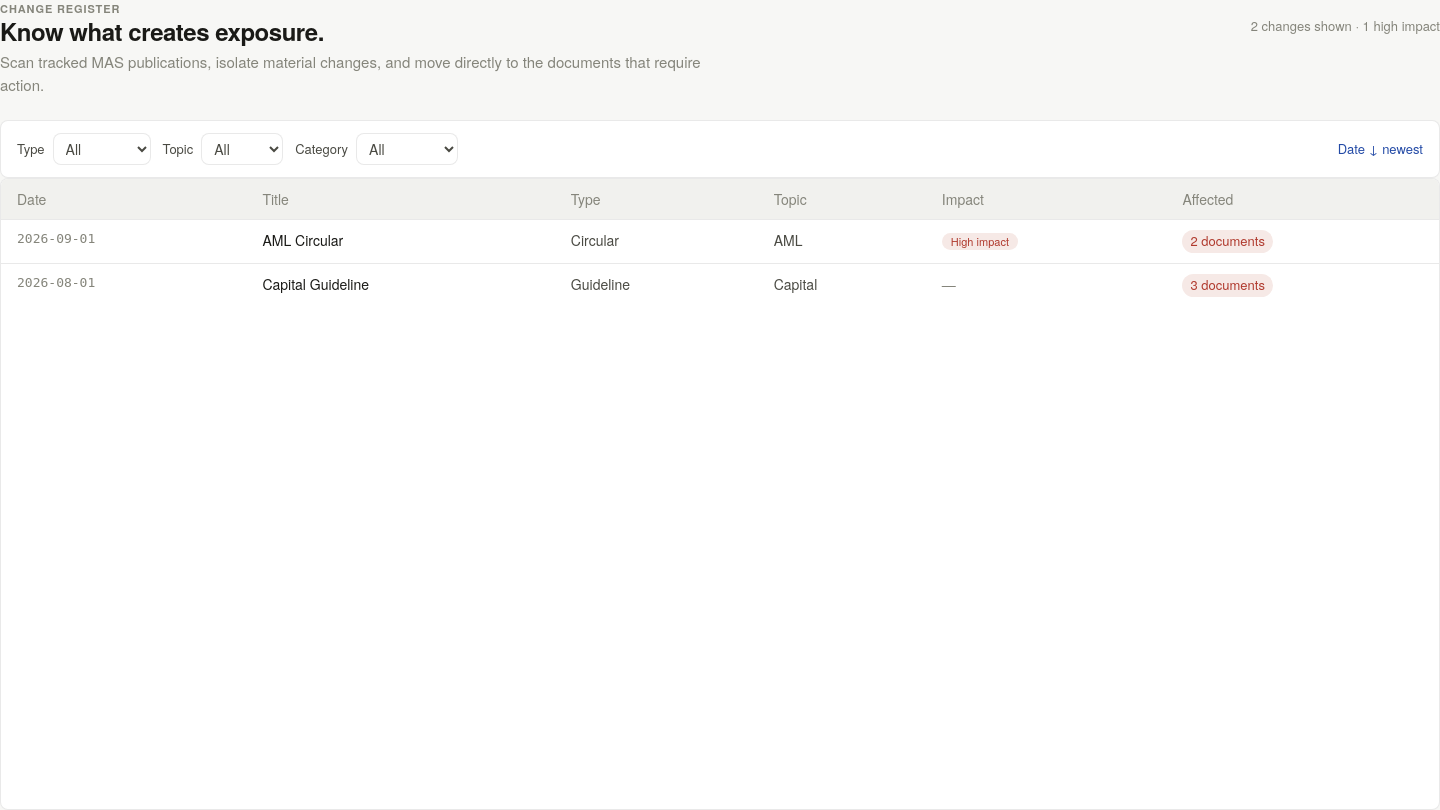
Scenario: opens the affected-documents page from an explicit impact action
Click the button with aria-label "View impact for AML Circular" at [1228, 242], box [1182,230,1273,253]
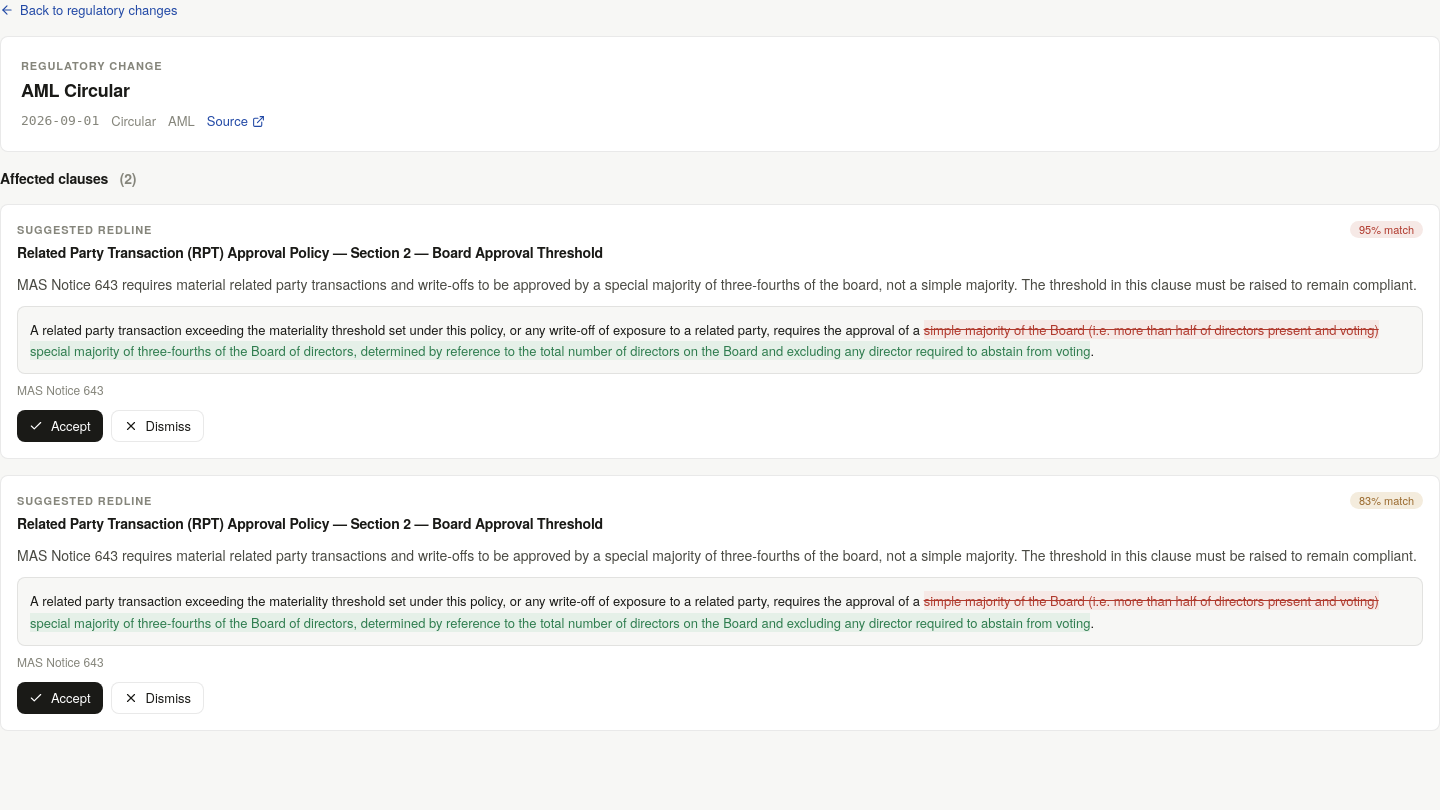
Expected: the button "Back to regulatory changes" is shown, [0,0,178,20]
Expected: the text "Regulatory change" is shown, [21,58,162,73]
